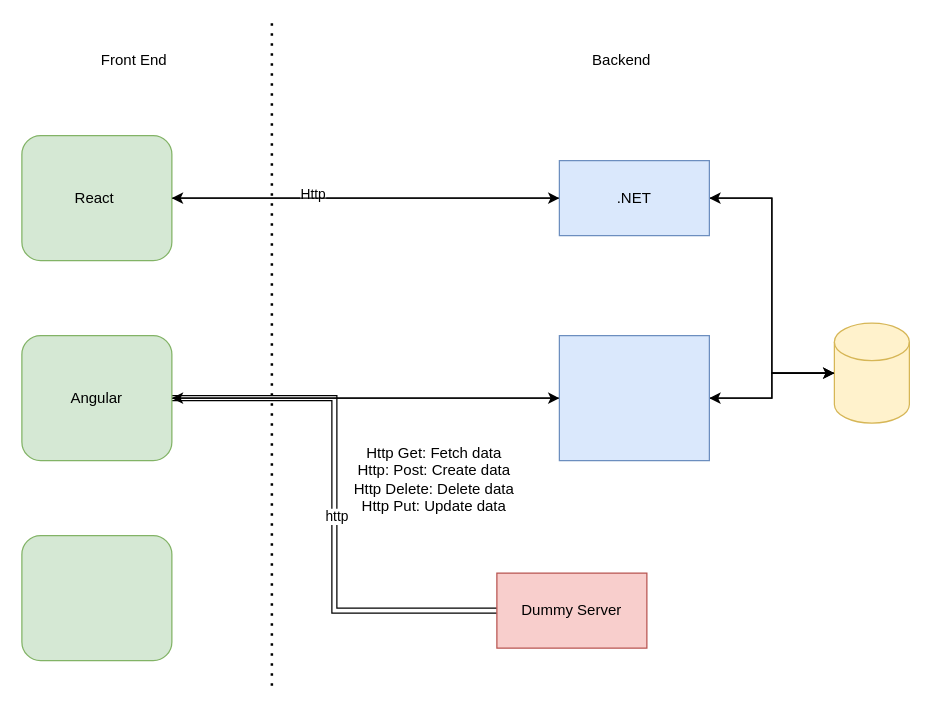
This 931x709 diagram has some shape labels left out. Here are the shapes that lost their labels. From the top down, the box of each, then its label:
(558, 334, 709, 461): Java/Spring
(21, 534, 172, 661): Mobile APP
